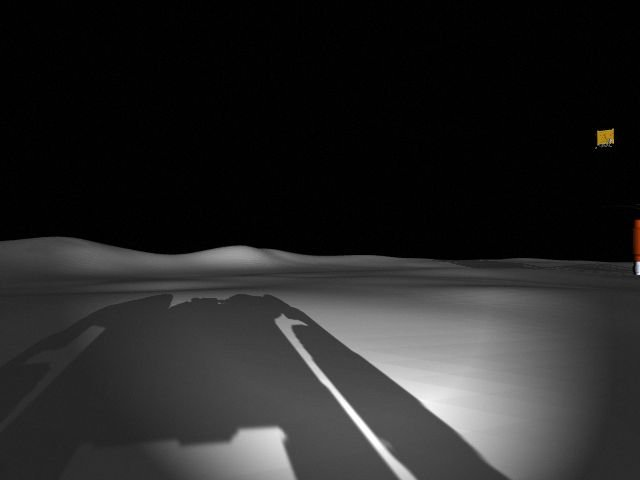cubesat: (589, 122, 620, 152)
